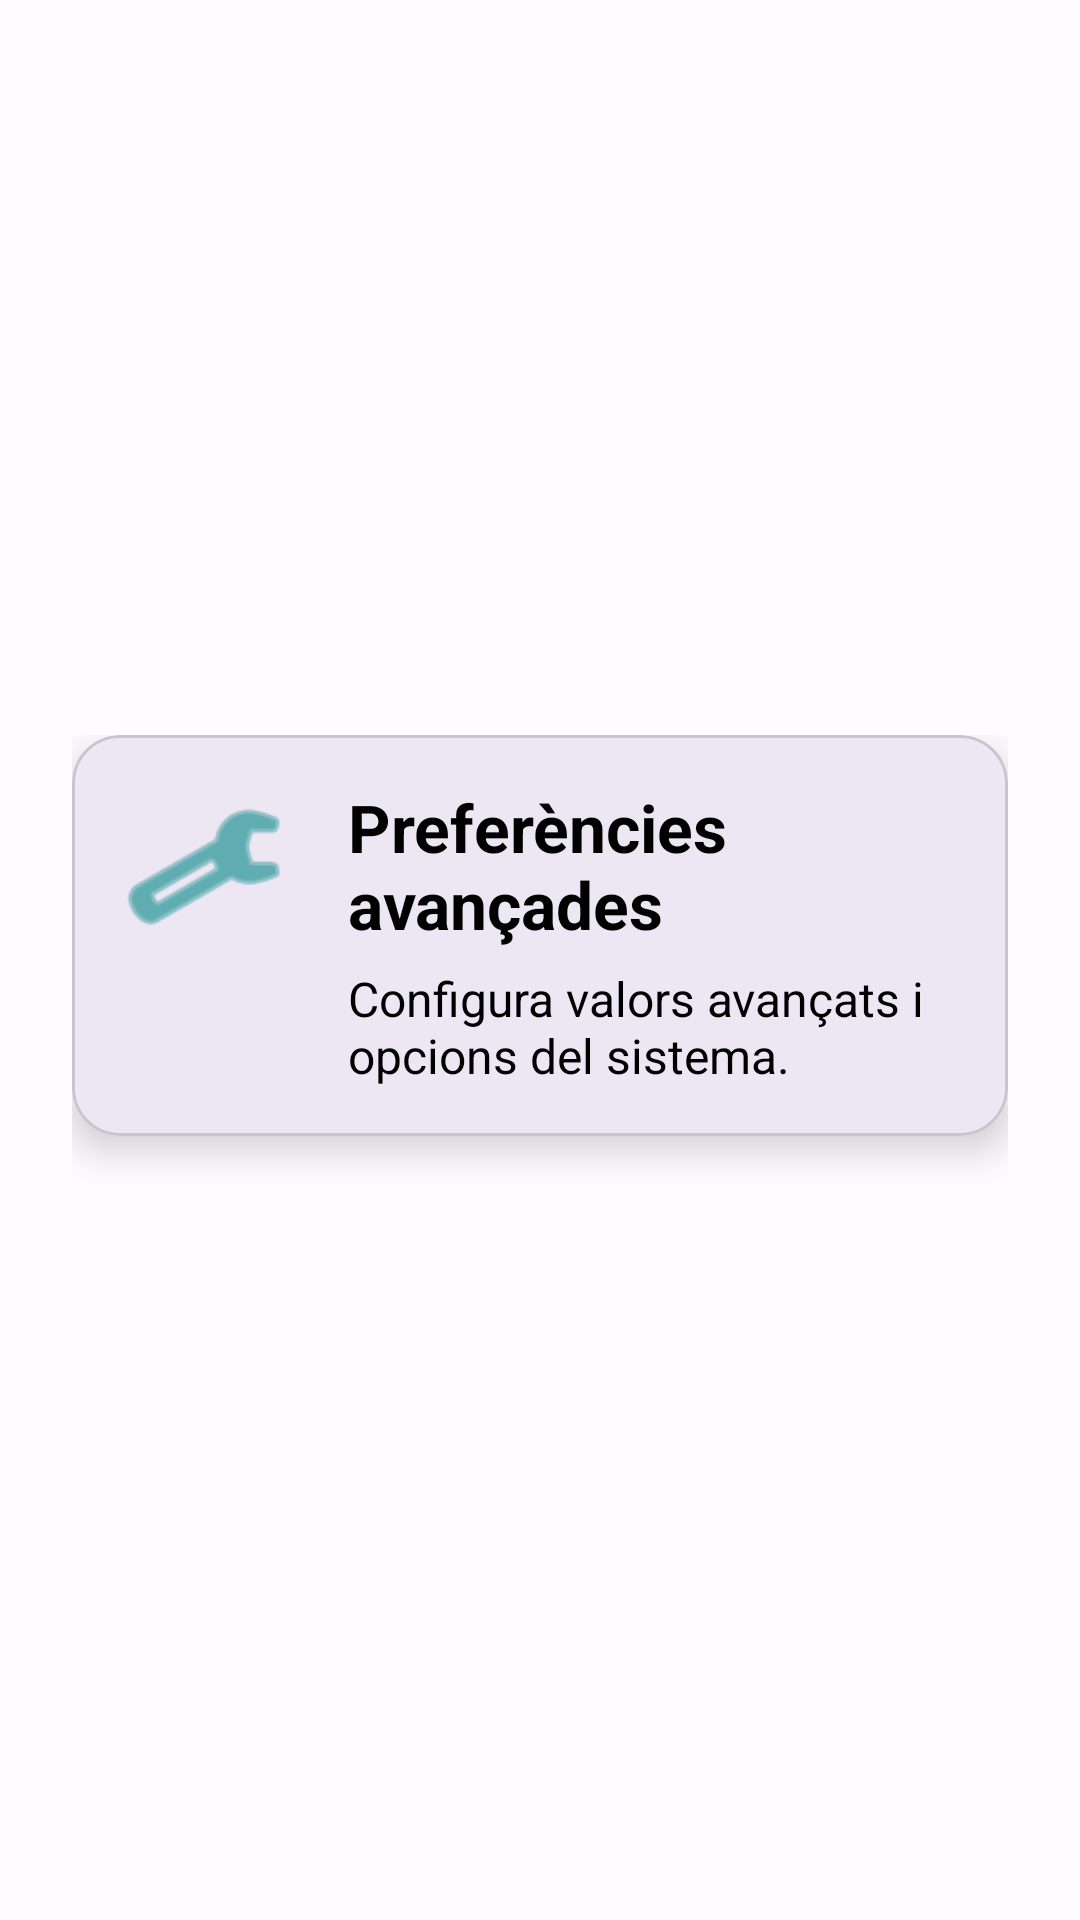

Where icons sit on this 1080 × 1920 app screen, as [x1,y1,x2,y2]:
preferences: [128,809,280,925]
